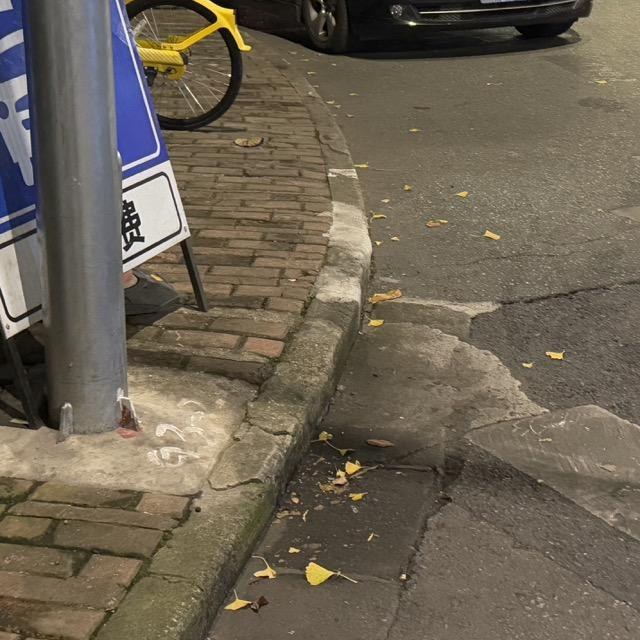curb: (99, 71, 371, 639)
